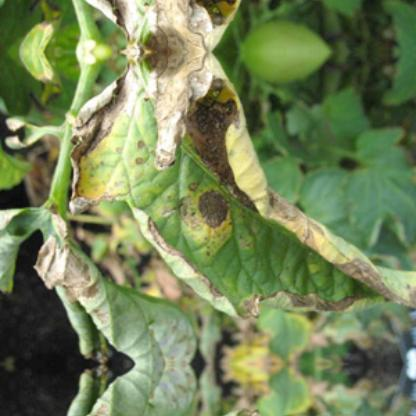Early-Blight: (58, 52, 412, 326)
